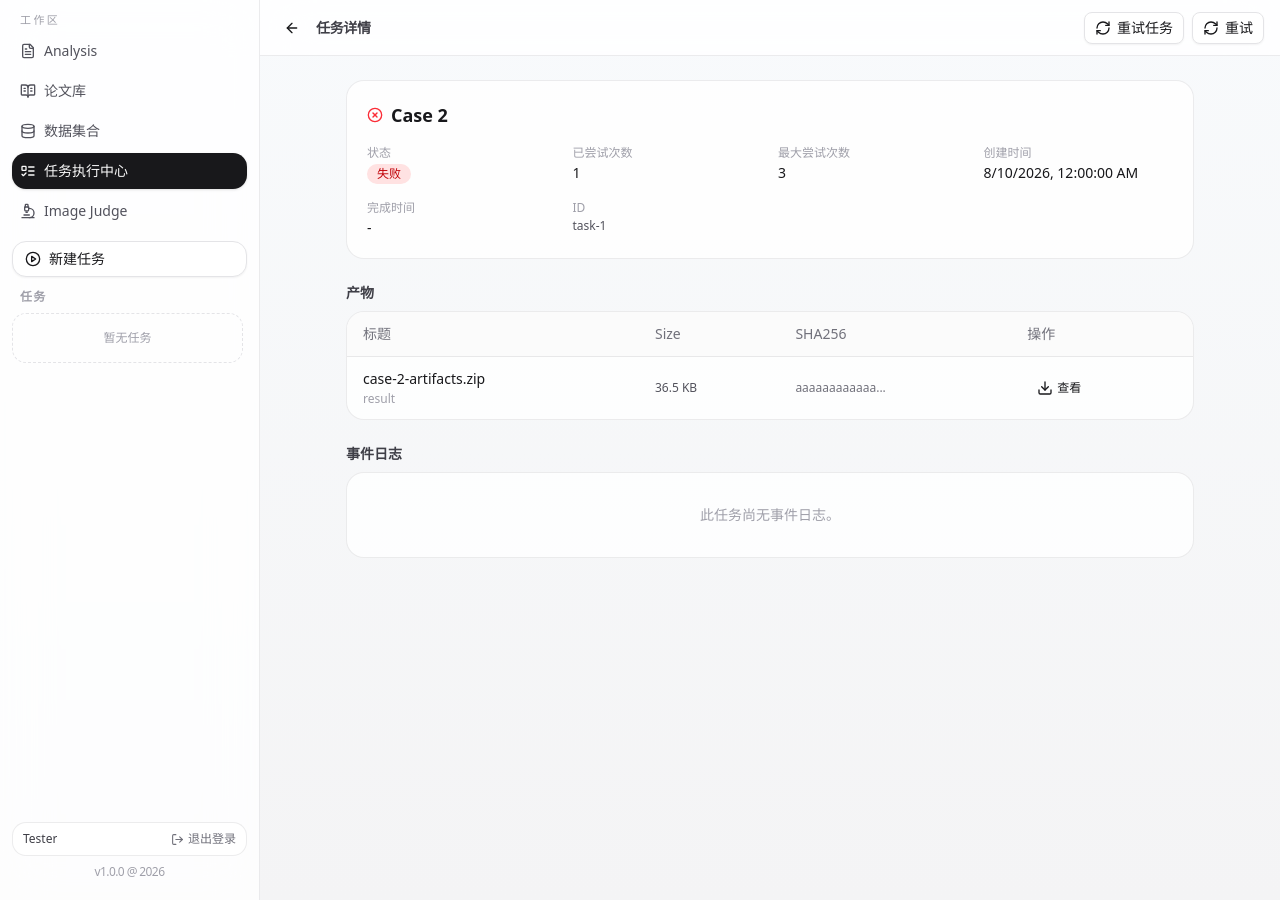
Test: Task detail downloads › shows a retry failure on the task detail instead of hiding it in state
The width and height of the screenshot is (1280, 900).
Click the button "重试任务".
click(1134, 28)  # box [1084,12,1184,44]
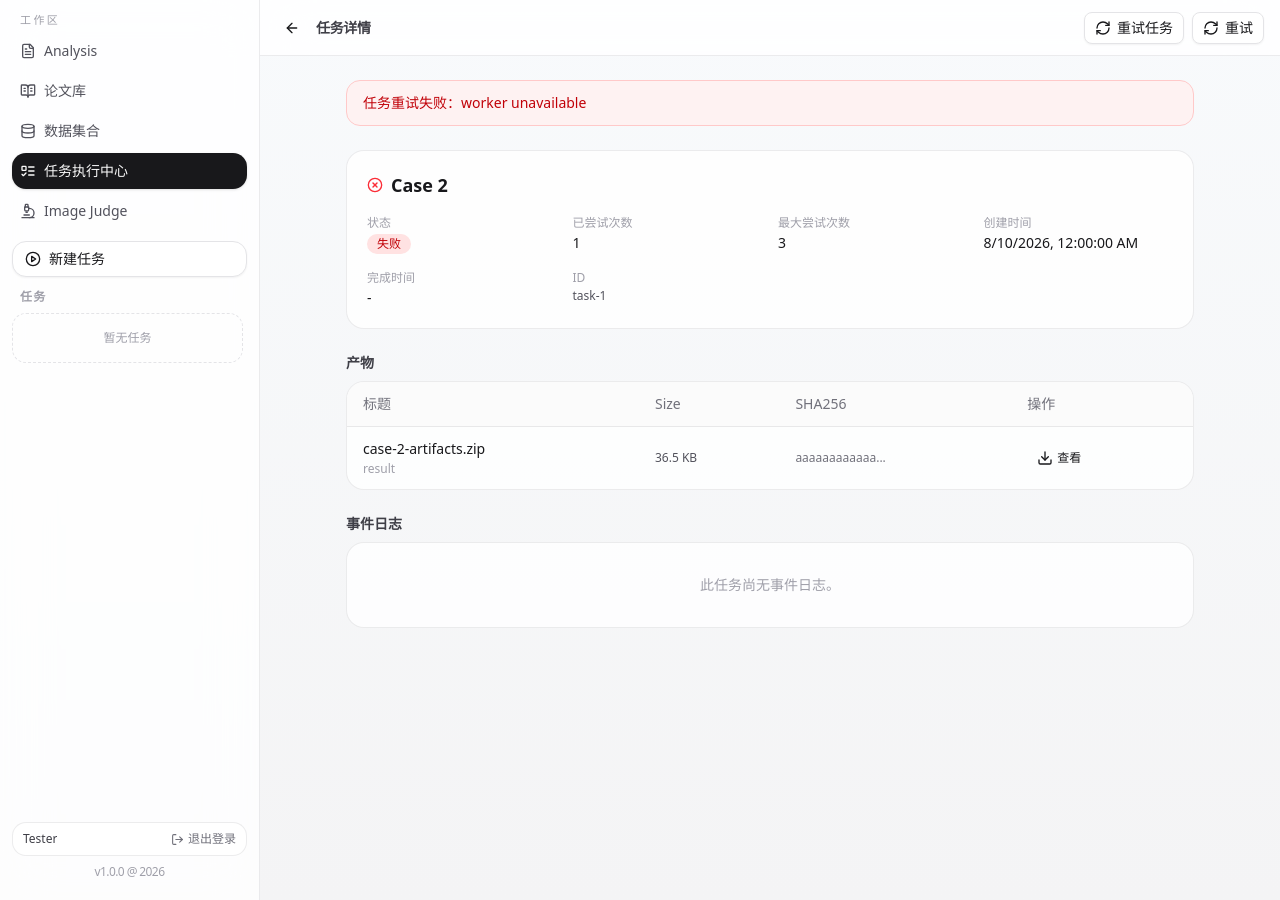
Expected: the message reads "任务重试失败：worker unavailable", [363,93,586,112]
